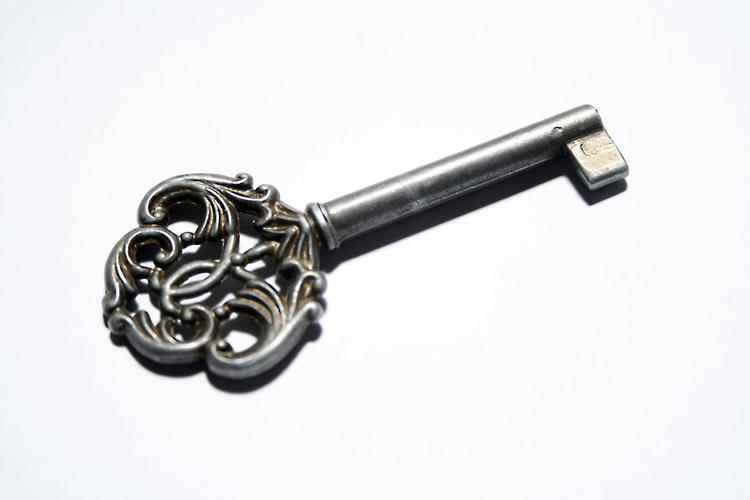key: (94, 98, 638, 391)
